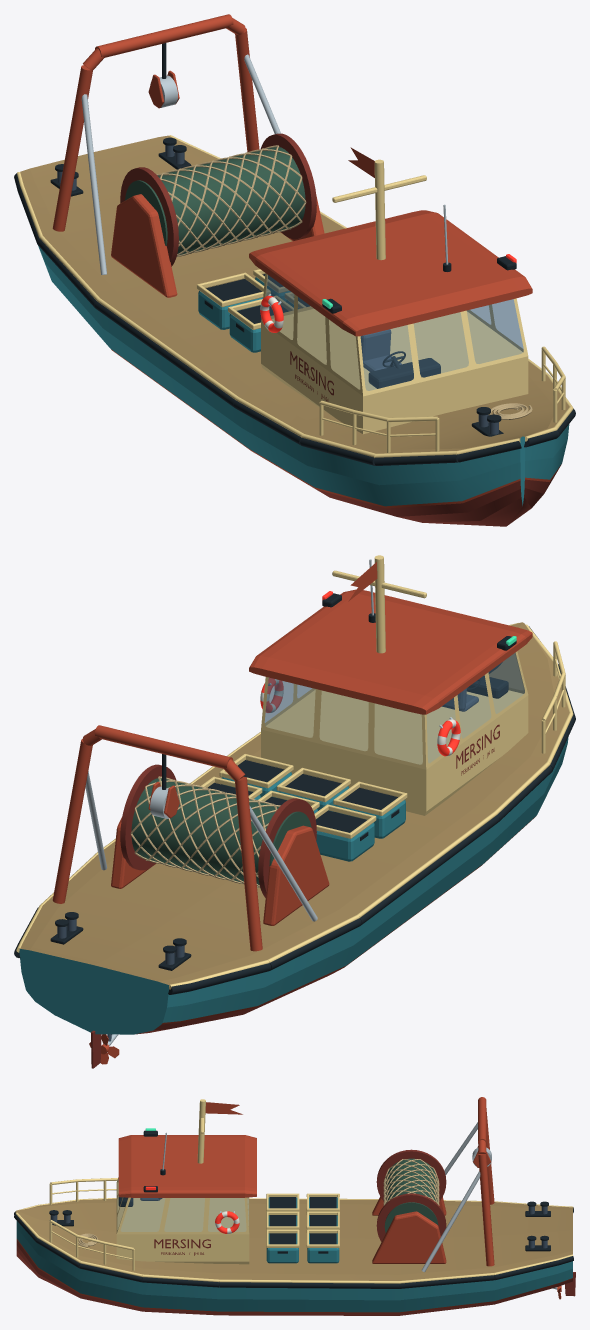
The picture shows the model from 3 angles, top to bottom: view 1: azimuth 30°, elevation 25°; view 2: azimuth 150°, elevation 25°; view 3: azimuth 270°, elevation 25°; orthographic projection. The views are drawn at different scales.
Parts seen in each view (by area): view 1: Mersing Net Hauler; view 2: Mersing Net Hauler; view 3: Mersing Net Hauler.
Boxes of the visible parts, x1,y1,x2,y2 form: Mersing Net Hauler: (14,14,575,526); Mersing Net Hauler: (14,555,575,1068); Mersing Net Hauler: (14,1097,575,1315).
Bounding box in the file's own units: 4.12 × 4.51 × 11.53.
